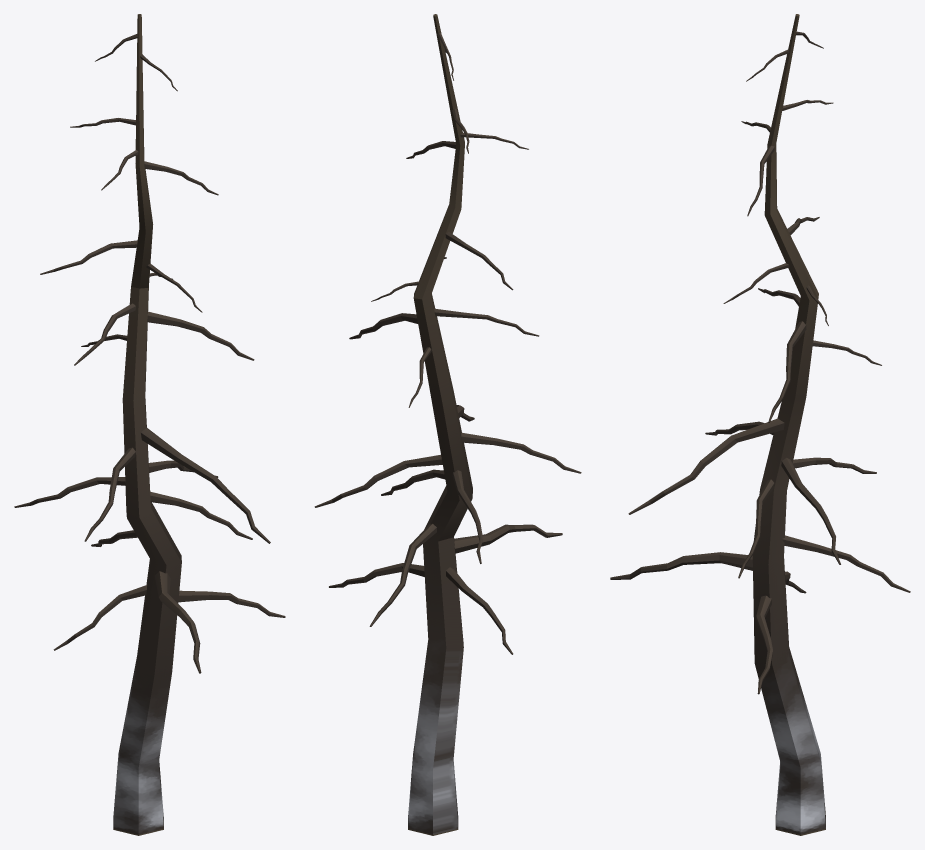
File: SM_LeaflessTree_04.fbx
The picture shows the model from 3 angles, left to right: view 1: azimuth 30°, elevation 25°; view 2: azimuth 150°, elevation 25°; view 3: azimuth 270°, elevation 25°; orthographic projection.
Parts seen in each view (by area): view 1: SM_LeaflessTree_04; view 2: SM_LeaflessTree_04; view 3: SM_LeaflessTree_04.
Part boxes in pixels (left/top/right/bottom): SM_LeaflessTree_04: left=14, top=14, right=285, bottom=835; SM_LeaflessTree_04: left=314, top=14, right=581, bottom=835; SM_LeaflessTree_04: left=610, top=14, right=910, bottom=835.
Bounding box in the file's own units: 564 × 1925 × 648.
